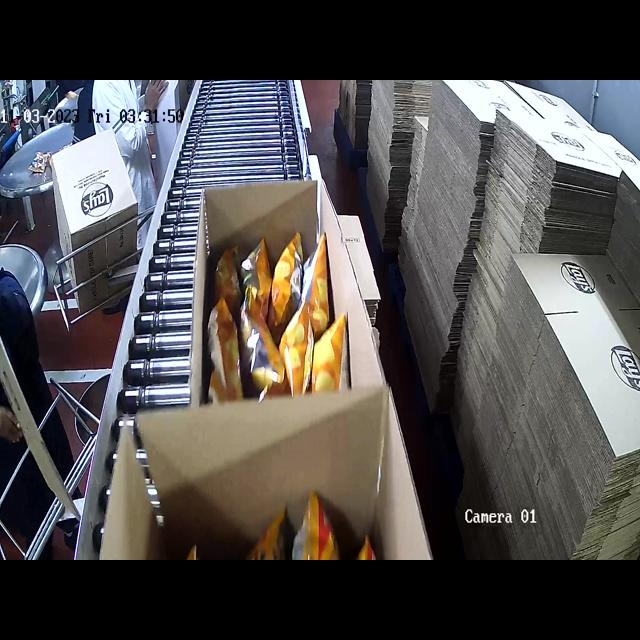cheese: (211, 254, 348, 403)
